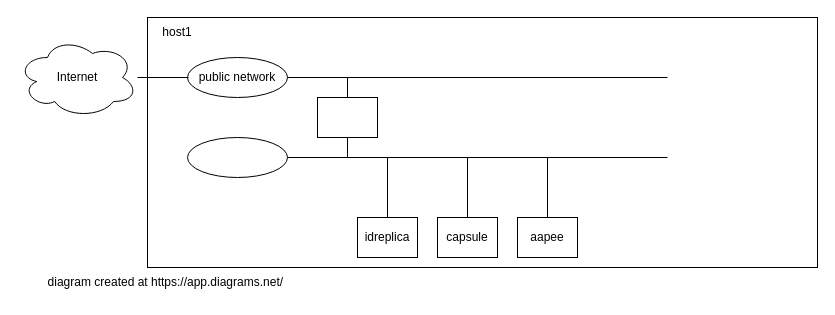
Some shapes in this 835 by 315 pixel diagram are drawn without their labels. Each missing label, with the box of its shape:
gateway: (316, 96, 378, 138)
private network: (186, 136, 288, 178)
